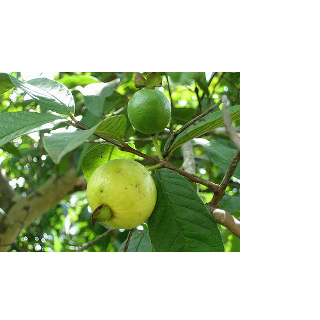oi: (83, 157, 158, 230)
